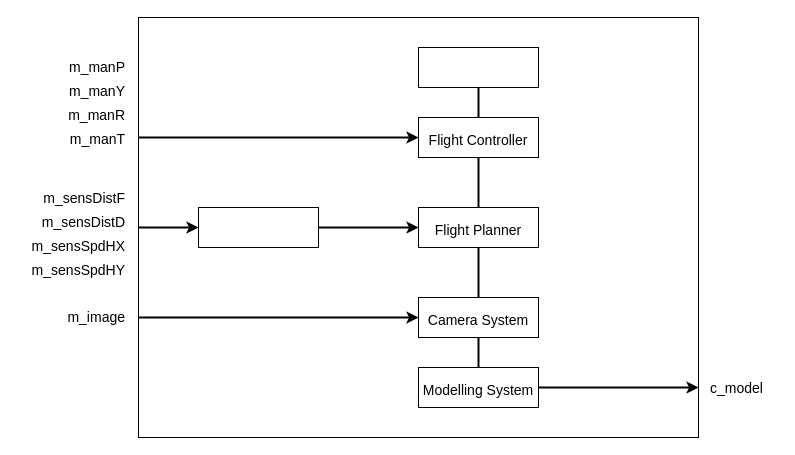
This 795x455 diagram has some shape labels left out. The shapes that lost their labels are listed below. From the top down, each one's centre as x and y in pixels, then its label:
At [478,67]: "Drive Train".
At [258,227]: "Sensor Array".
